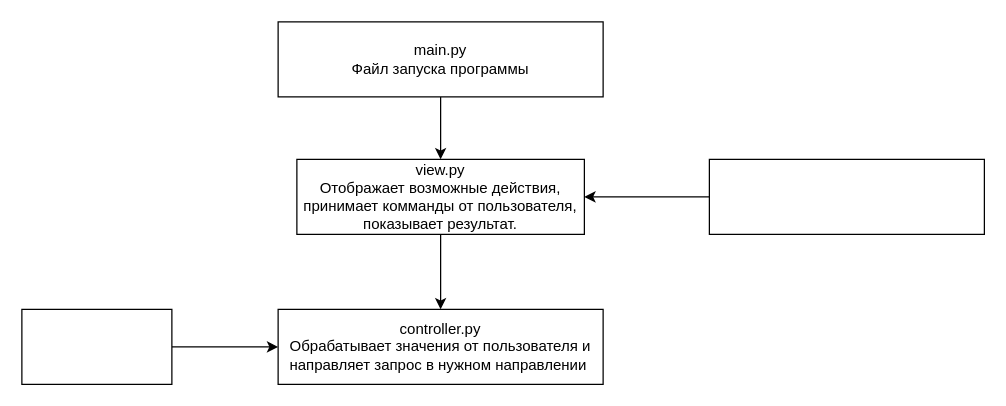
Some shapes in this 1006 by 406 pixel diagram are drawn without their labels. Each missing label, with the centre of its shape:
check.py содержит методы для проверки введенных значений: (846,196)
rationals_calc.py: (96,346)
